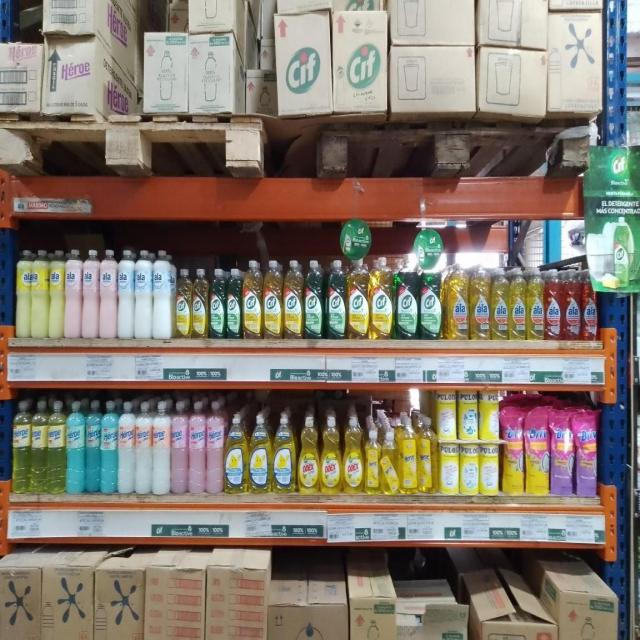ala_conc_amarillo: (446, 259, 469, 340), (470, 262, 490, 341), (527, 266, 544, 341), (492, 267, 508, 340), (510, 267, 526, 340)
ala_conc_rojo: (563, 268, 581, 342), (545, 268, 562, 342), (582, 268, 598, 342)
ala_crem_amarillo: (15, 248, 31, 339), (32, 249, 48, 339), (50, 249, 64, 339)
ala_crem_blanco: (153, 249, 174, 340), (135, 248, 152, 340), (118, 248, 134, 339)
ala_crem_rosado: (65, 248, 82, 340), (82, 248, 99, 339), (100, 248, 117, 339)
cif_conc_bot_amarilla: (370, 256, 393, 340), (347, 257, 369, 341), (263, 259, 283, 340), (284, 259, 303, 340), (243, 260, 262, 340), (192, 268, 208, 340), (176, 268, 192, 340)
cif_conc_botella_verde: (395, 253, 418, 341), (419, 259, 443, 340), (326, 259, 346, 340), (304, 259, 324, 340), (226, 267, 242, 340), (210, 268, 226, 340)
drive: (525, 406, 549, 496), (574, 408, 598, 498), (550, 408, 574, 496), (502, 406, 524, 495)
heroe: (46, 399, 66, 494), (66, 400, 85, 495), (152, 400, 170, 496), (206, 399, 224, 494), (188, 399, 206, 494), (12, 399, 30, 494), (171, 400, 188, 496), (135, 400, 152, 496), (118, 400, 135, 495), (417, 415, 437, 493), (30, 398, 46, 494), (101, 399, 117, 495), (399, 416, 417, 494), (86, 399, 100, 494), (381, 429, 399, 493), (365, 428, 381, 493)
magistral_con_amarillo: (272, 412, 296, 494), (248, 412, 272, 494), (225, 412, 248, 494)
odex: (298, 413, 319, 494), (321, 414, 342, 494), (343, 414, 364, 493)
